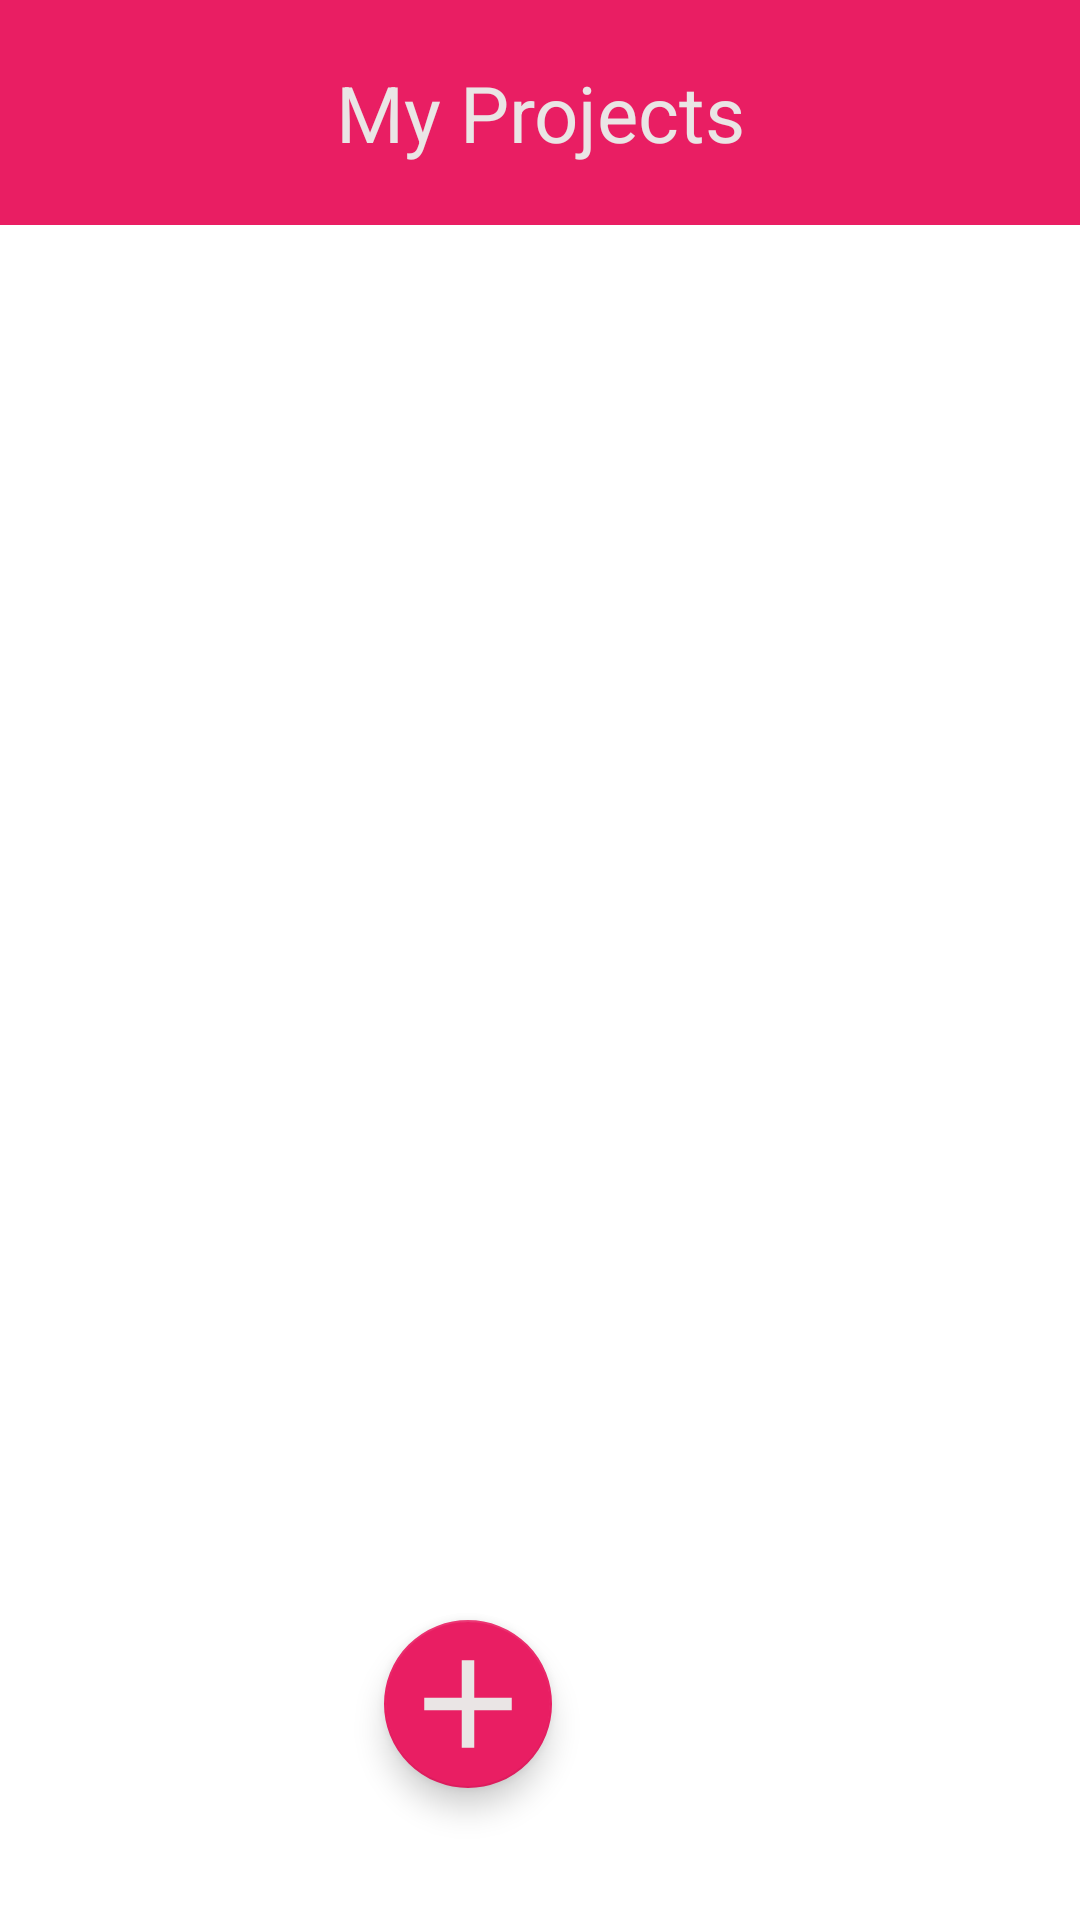

Point at icon controls on the screen. Image size 1080*1920, points as (x=x, y=y).
add: (x=468, y=1704)
